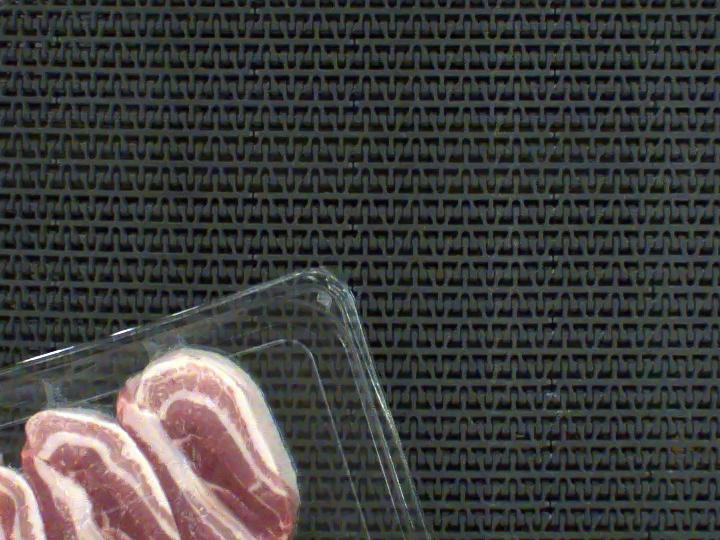packaging-error: (84, 286, 218, 376), (15, 348, 81, 422)
